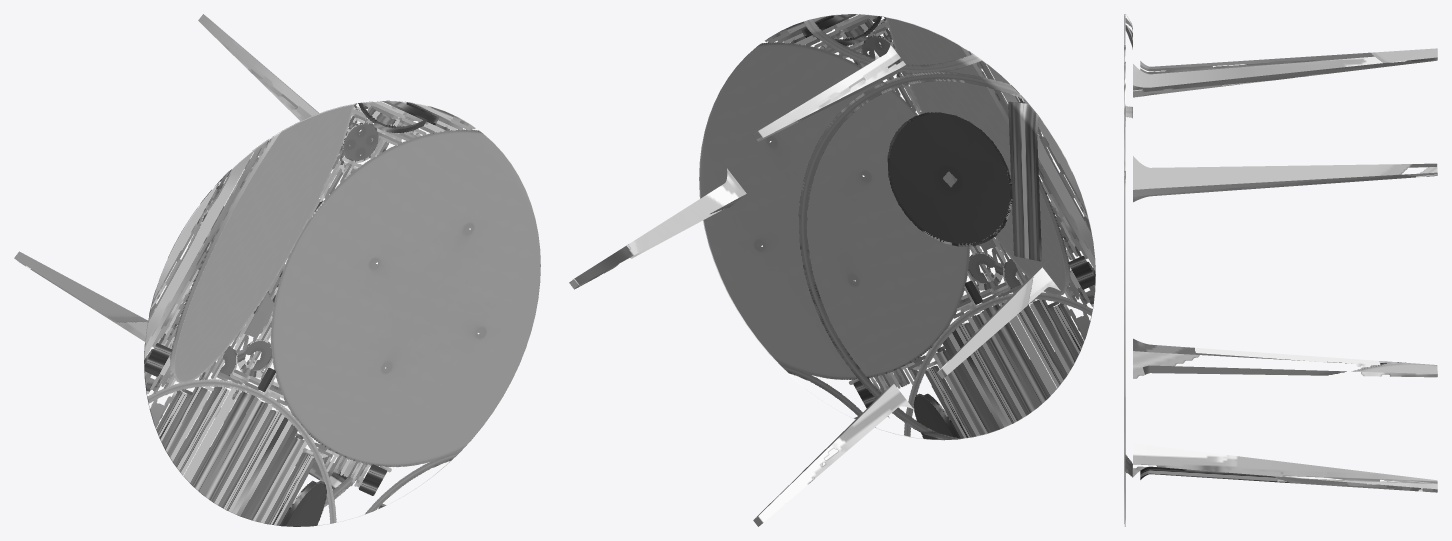
3 renders of one model, left to right at view 1: azimuth 30°, elevation 25°; view 2: azimuth 150°, elevation 25°; view 3: azimuth 270°, elevation 25°, orthographic. The views are drawn at different scales.
Size of the model in its own units: 0.6823 by 0.6823 by 0.4164.
